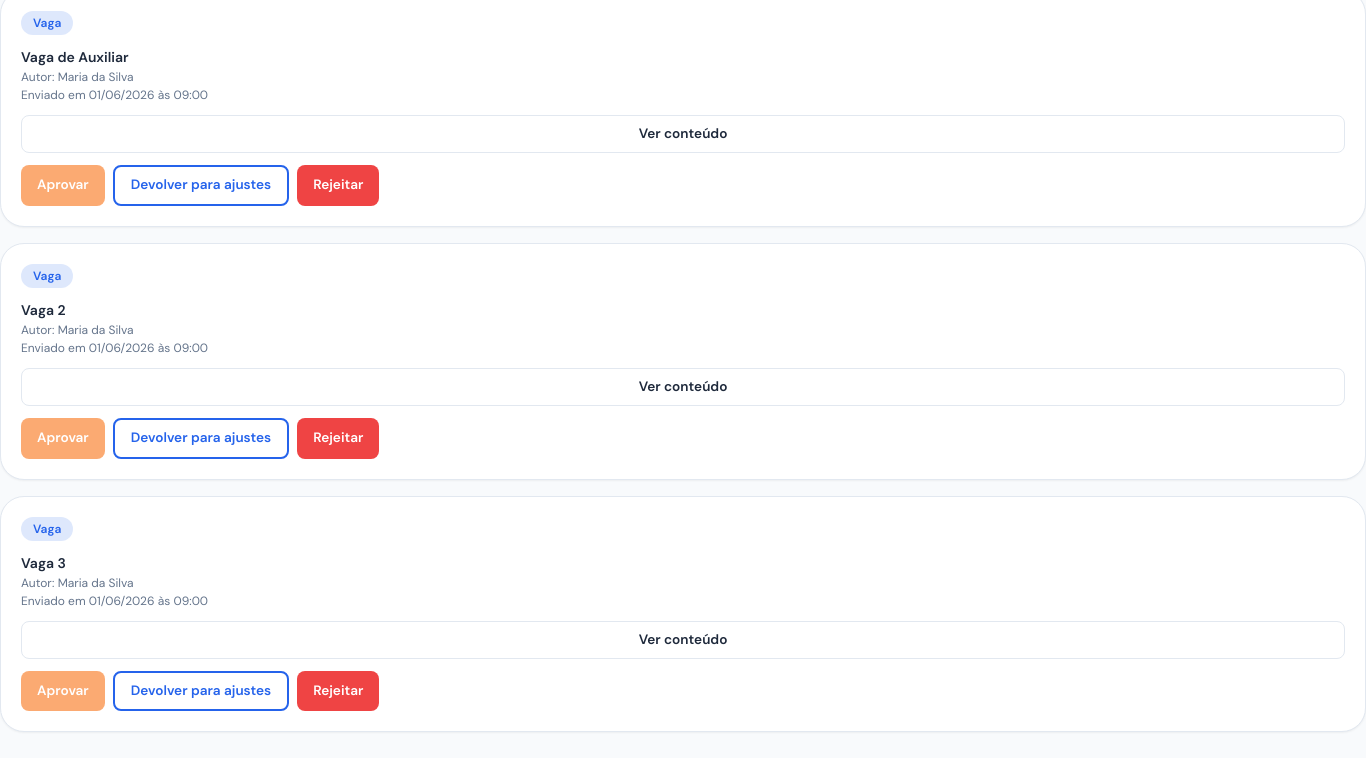
Test: ModerationQueue › USP-066/P-001 (PR#294 achado #9): contentState é por item — abrir o conteúdo do item B não habilita Aprovar de A/C
Click the button "Ver conteúdo" below "Vaga 2": click(683, 387) x1=21 y1=368 x2=1345 y2=406
(page scrolled)
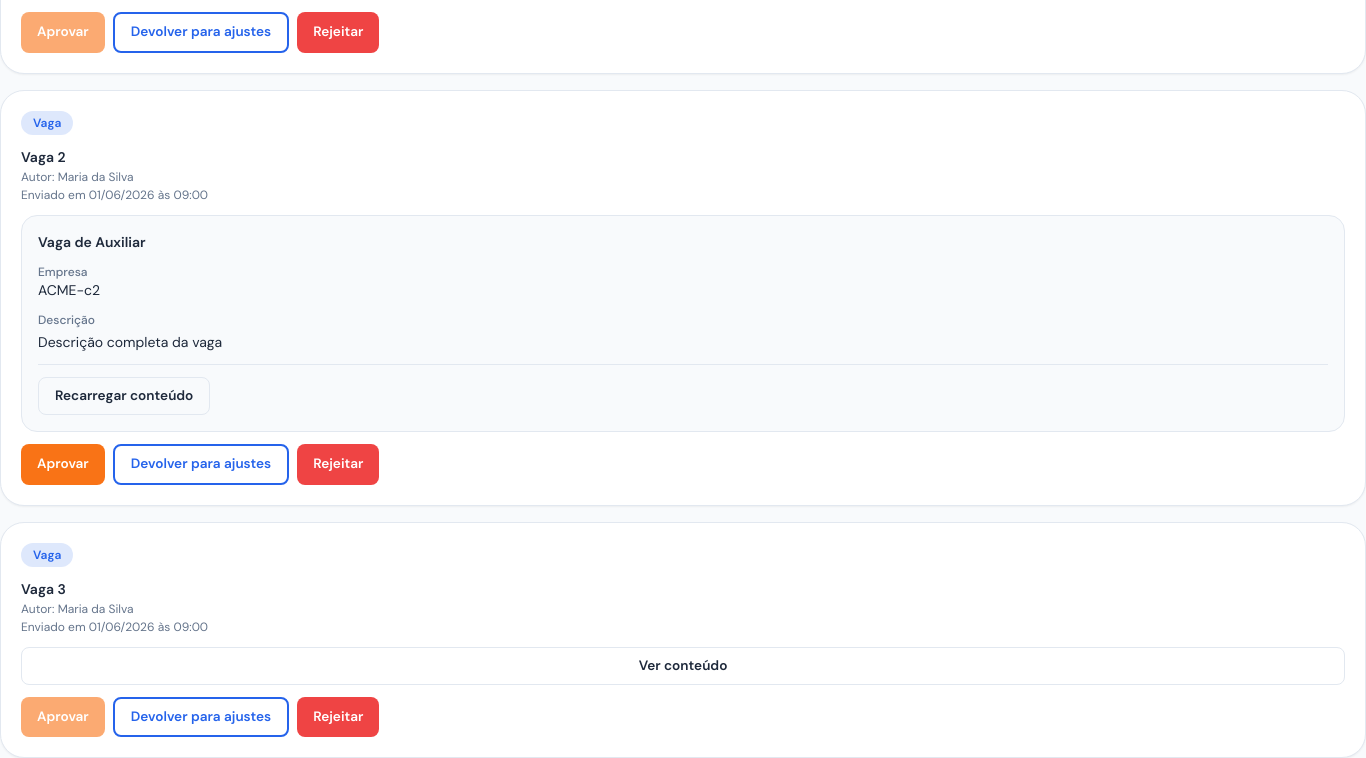
Expected: the 1st button "Aprovar" is disabled, x1=21 y1=12 x2=105 y2=53
Result: the text "ACME-c2" is shown at x1=38 y1=281 x2=100 y2=299
Result: the button "Aprovar" below "Vaga 2" is enabled at x1=21 y1=444 x2=105 y2=485
